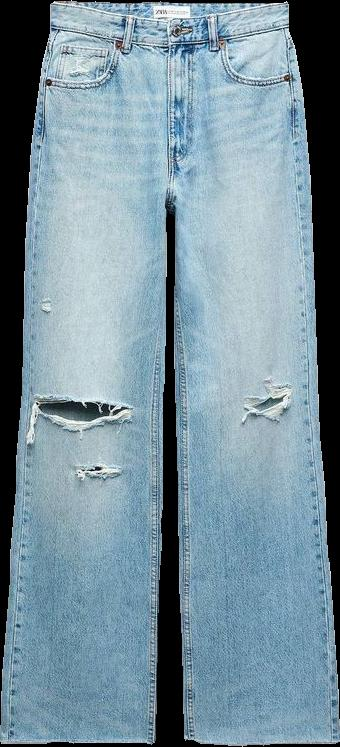Hemline: (0, 733, 155, 746), (182, 735, 339, 746)
Pantleg: (1, 2, 175, 743), (172, 1, 339, 744)
Waistline: (48, 20, 290, 48), (51, 0, 288, 23)
